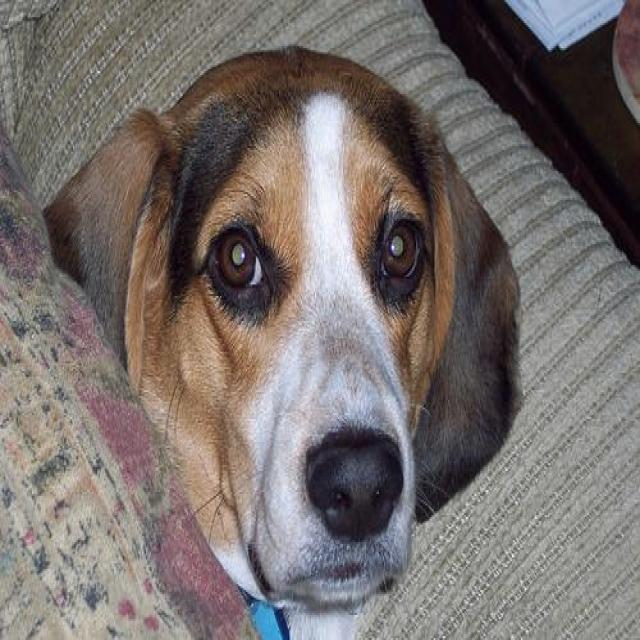beagle: (40, 46, 528, 638)
